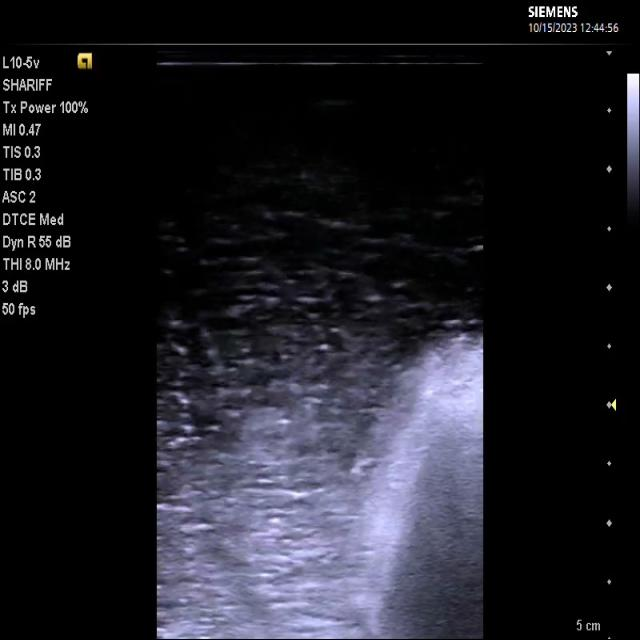tissue: (345, 331, 483, 638)
